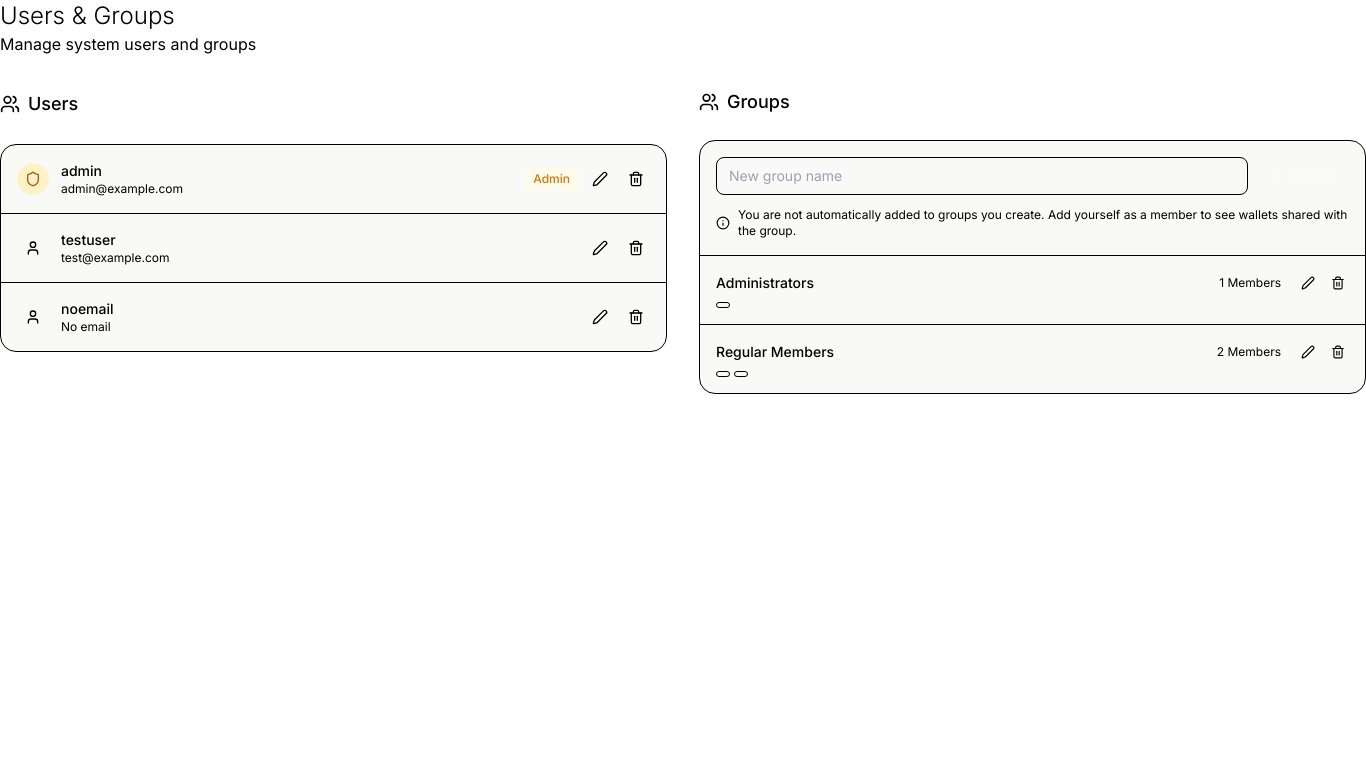
UsersGroups › edit user › opens edit modal when clicking edit button
This screenshot has width=1366, height=768.
Expected: the text "admin" is shown, [61, 162, 102, 179]
What coordinates should you click on to do the following:
click the button titled "edit user" in the row of "admin@example.com"
I would click on:
 (600, 179)
Its box is [586, 165, 614, 193].
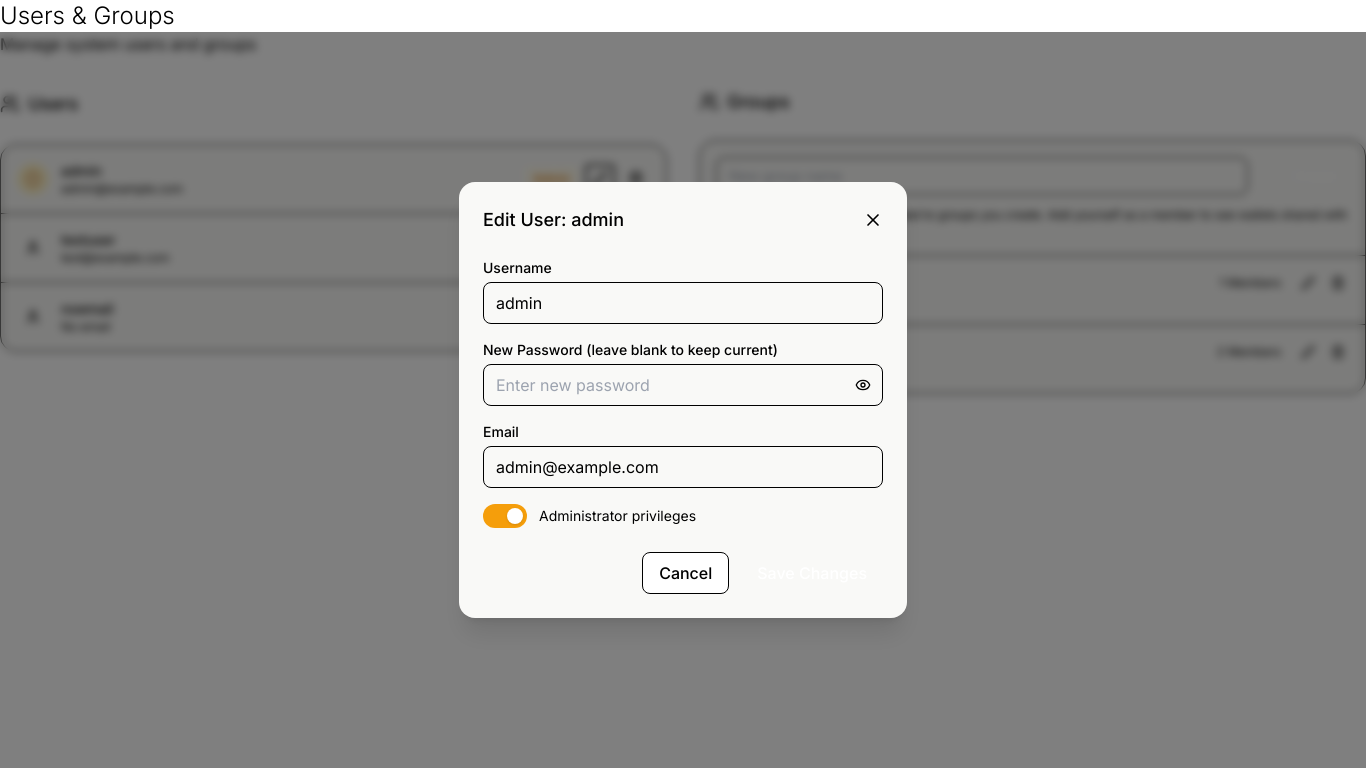
Now the field showing "admin" below "Username" is shown, box [483, 282, 883, 324]
